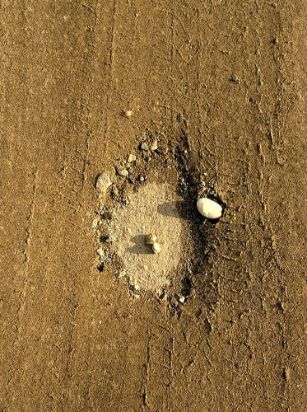pothole: (87, 135, 230, 308)
